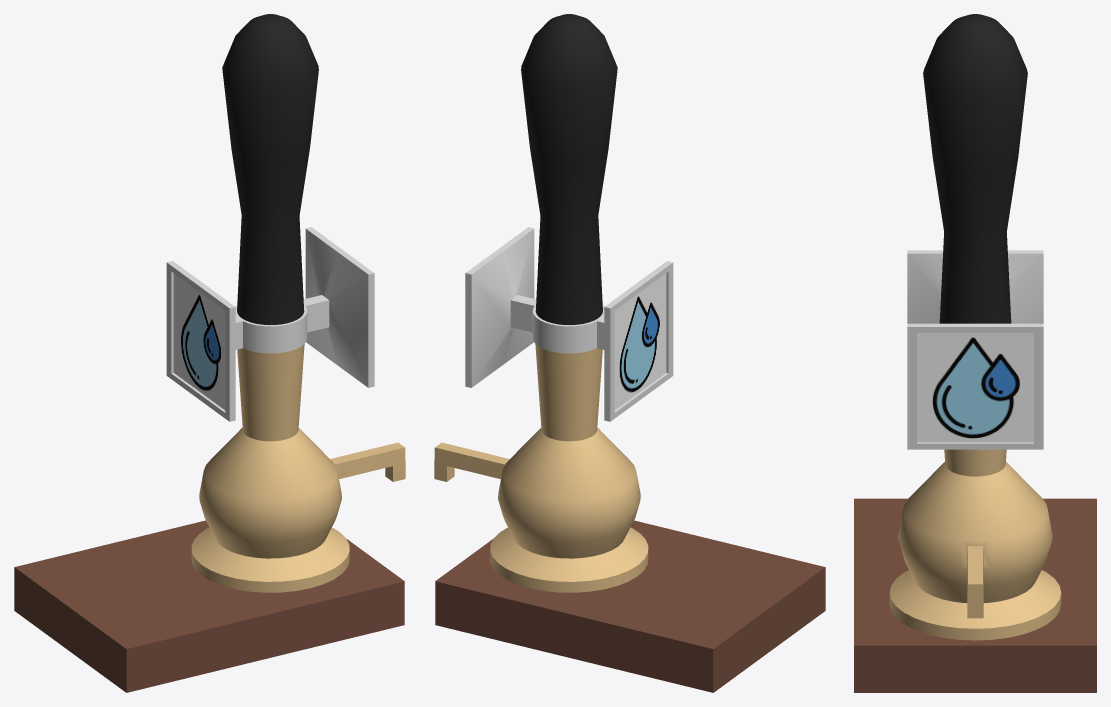
File: SM_Tap.fbx
3 renders of one model, left to right at view 1: azimuth 30°, elevation 25°; view 2: azimuth 150°, elevation 25°; view 3: azimuth 270°, elevation 25°, orthographic. The views are drawn at different scales.
Visible parts, largest first — view 1: SM_Tap_Lemonade; view 2: SM_Tap_Lemonade; view 3: SM_Tap_Lemonade.
Part boxes in pixels (x1,y1,x2,y2): SM_Tap_Lemonade: (14, 14, 405, 692); SM_Tap_Lemonade: (434, 14, 825, 692); SM_Tap_Lemonade: (854, 14, 1096, 692).
Size of the model in its own units: 39.58 by 66.72 by 23.2.
Materials: 5 (1 with a texture image).
